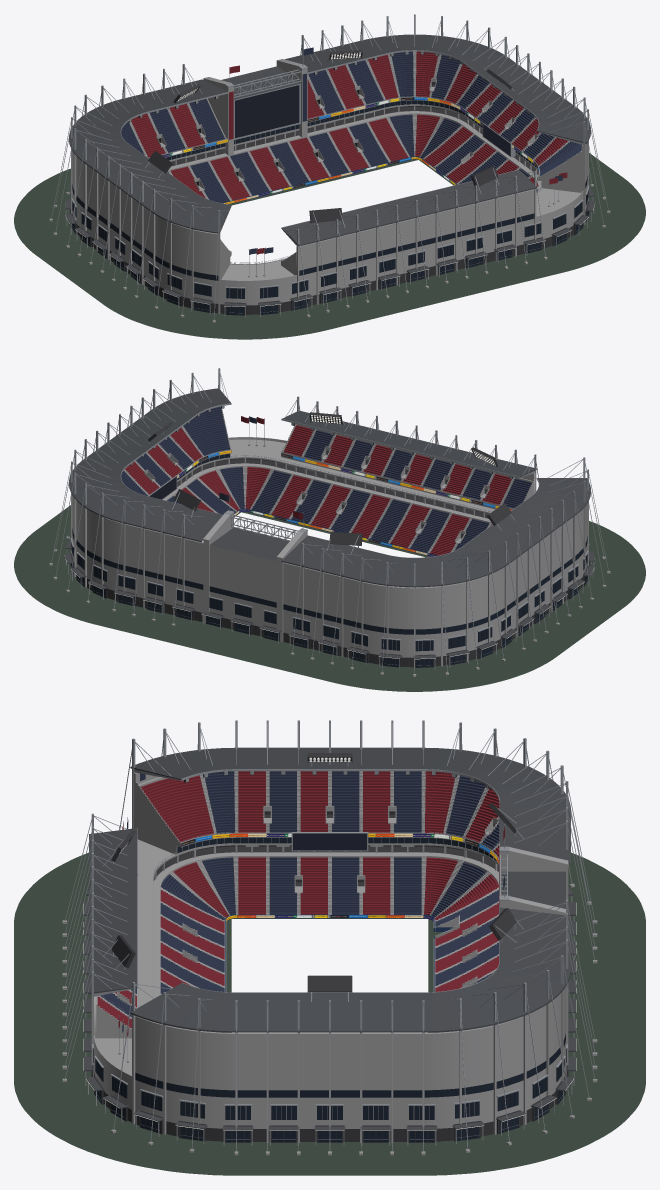
File: stadium.glb
The picture shows the model from 3 angles, top to bottom: view 1: azimuth 30°, elevation 25°; view 2: azimuth 150°, elevation 25°; view 3: azimuth 270°, elevation 25°; orthographic projection. The views are drawn at different scales.
Parts seen in each view (by area): view 1: Stadium; view 2: Stadium; view 3: Stadium.
Part boxes in pixels (x1,y1,x2,y2): Stadium: [14, 14, 645, 339]; Stadium: [14, 368, 645, 691]; Stadium: [14, 720, 645, 1175].
Bounding box in the file's own units: 267 × 55.02 × 206.
14 materials, 1 textured.
